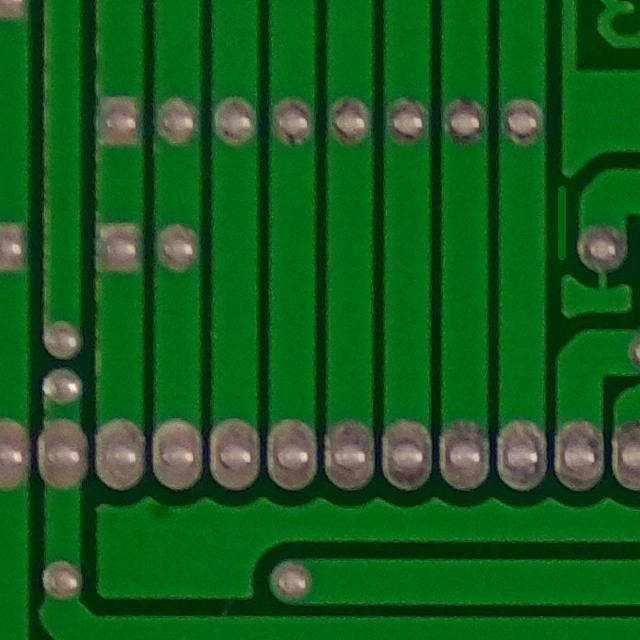spurious_copper: (546, 174, 583, 275)
